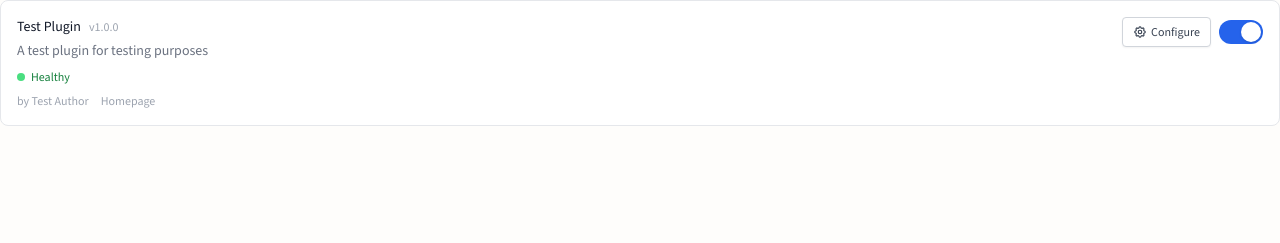
Test case: PluginCard › enable/disable toggle › hides confirmation dialog when Cancel is clicked
Click the switch at (1241, 32), box [1219,20,1263,44]
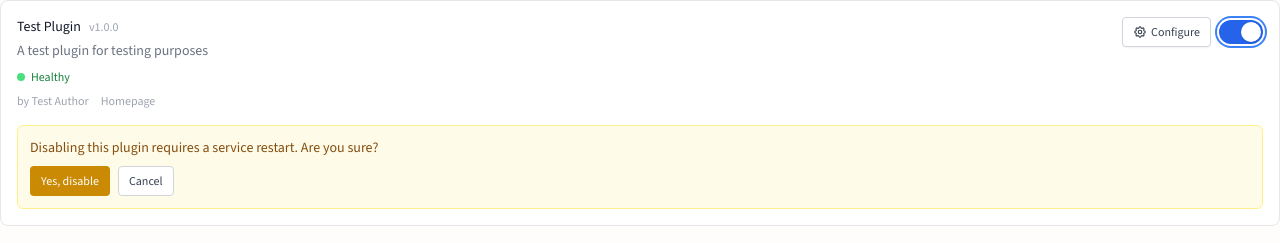
Click the button "Cancel" at (146, 181), box [118,166,174,196]
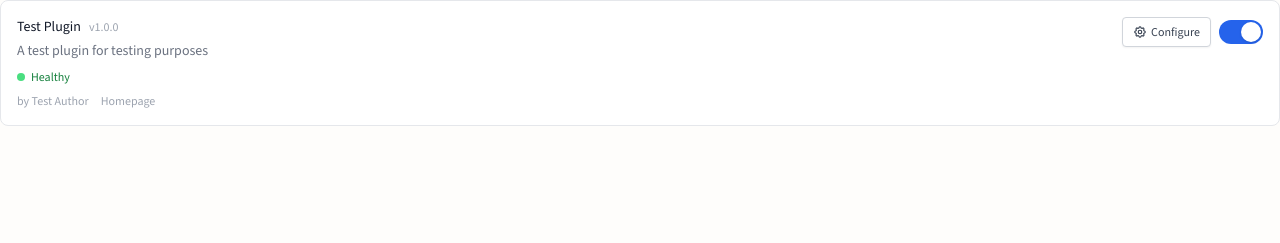
Result: the text "Disabling this plugin requires a service restart" is gone
